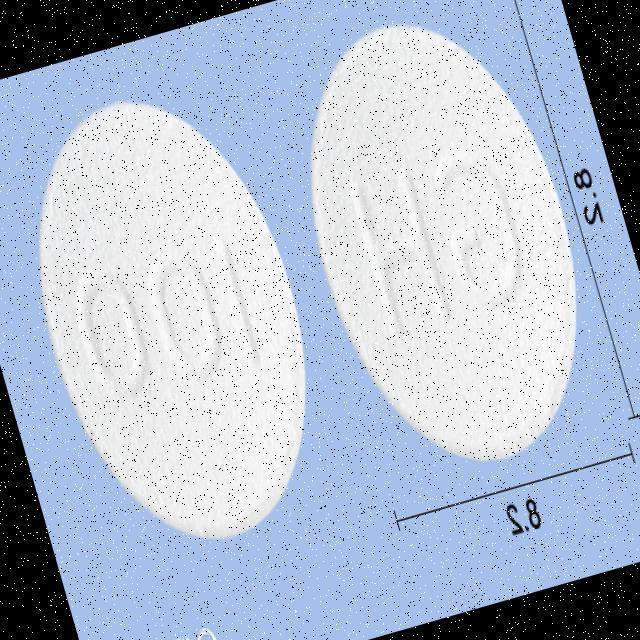Levona -500mg: (262, 0, 625, 494), (0, 67, 352, 572)
